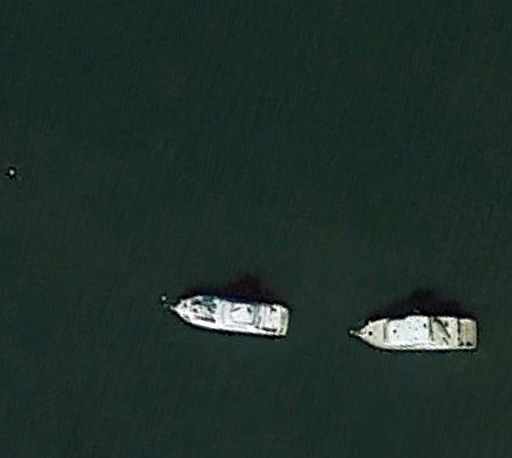boat: (163, 293, 292, 340), (346, 310, 479, 354)
